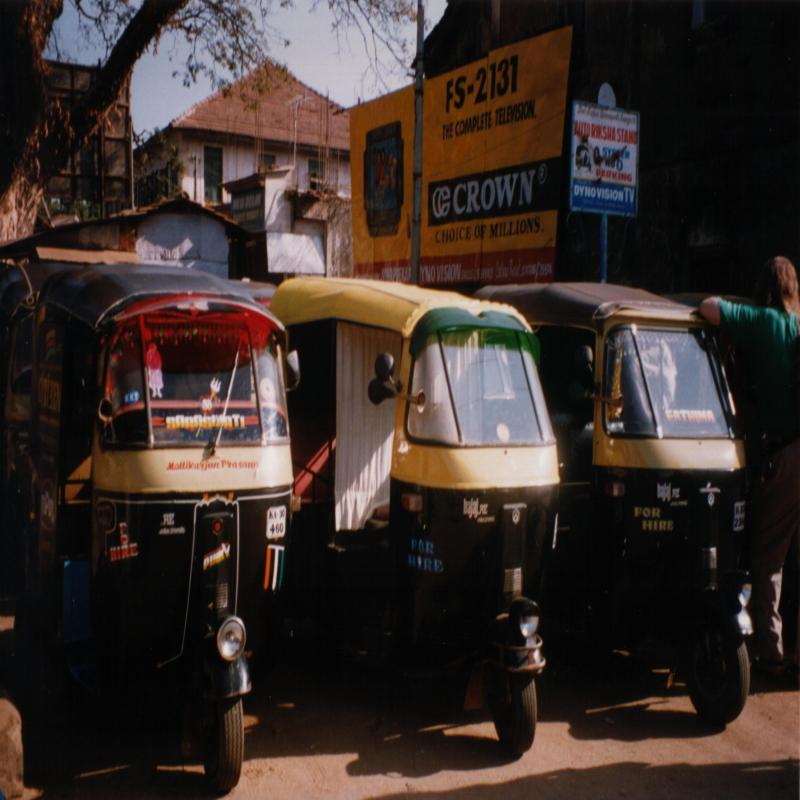auto: (17, 223, 282, 794), (285, 253, 551, 786), (554, 247, 764, 750)
